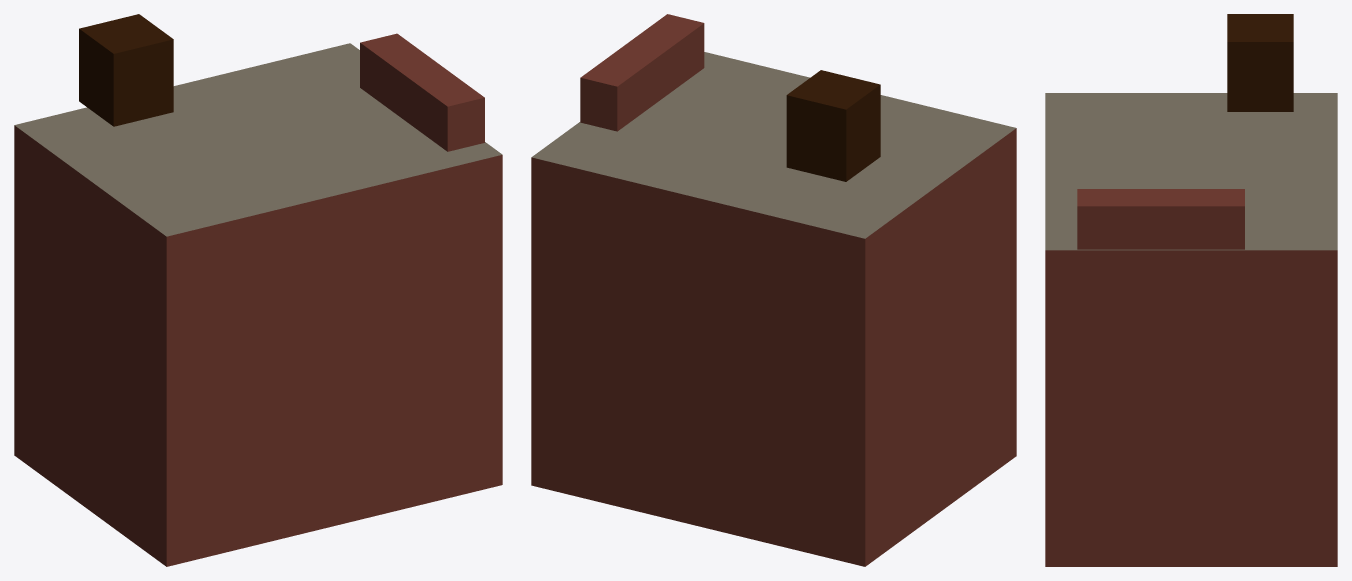
Rendered from ns-brick-walkup.towns-v1.lod2.glb.
3 renders of one model, left to right at view 1: azimuth 30°, elevation 25°; view 2: azimuth 150°, elevation 25°; view 3: azimuth 270°, elevation 25°, orthographic. The views are drawn at different scales.
Parts seen in each view (by area): view 1: ns-brick-walkup; view 2: ns-brick-walkup; view 3: ns-brick-walkup.
Boxes of the visible parts, x1,y1,x2,y2 form: ns-brick-walkup: (14,14,502,566); ns-brick-walkup: (531,14,1016,566); ns-brick-walkup: (1045,14,1337,566).
Size of the model in its own units: 14 by 17.25 by 11.
